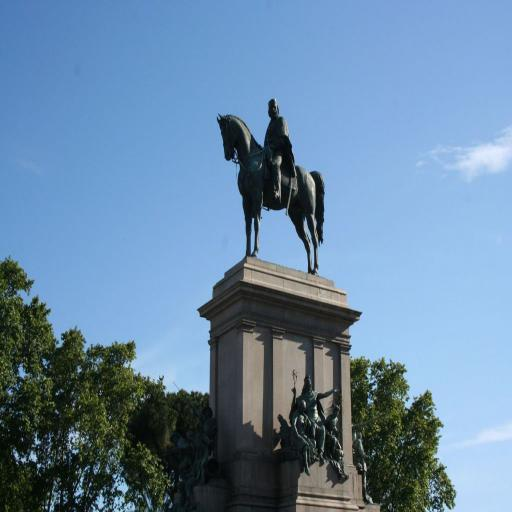horse: (216, 111, 326, 275)
